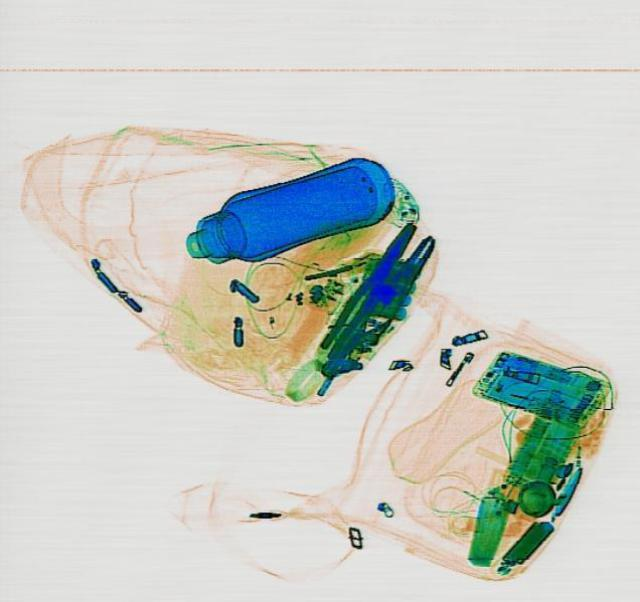Pliers: (324, 226, 441, 370)
